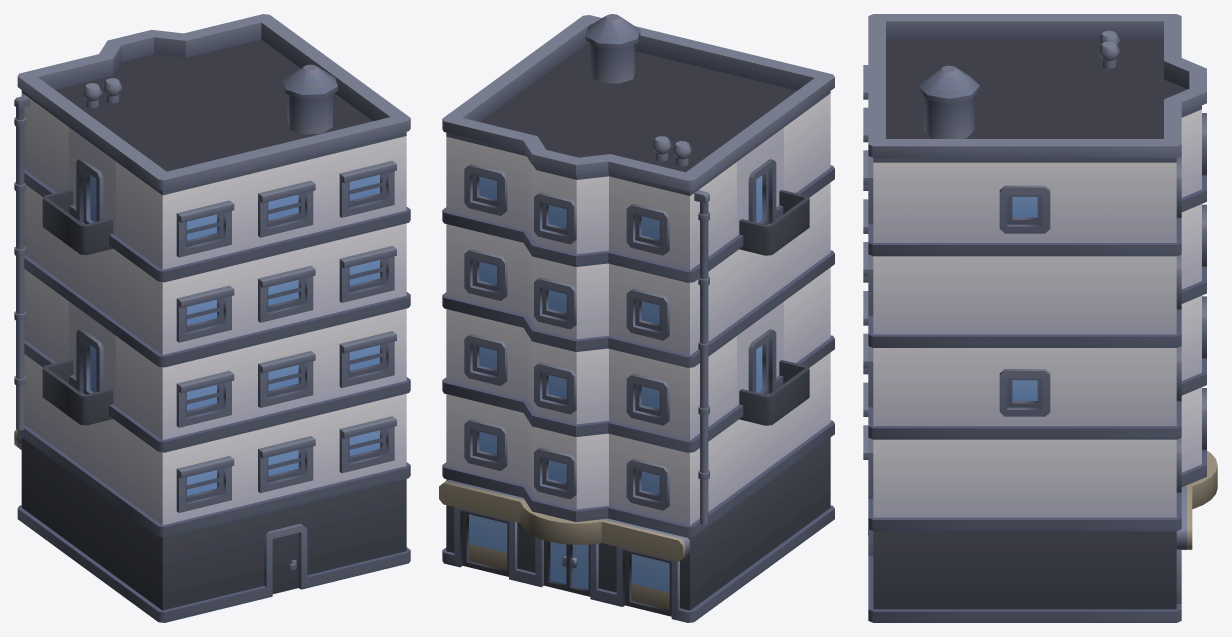
File: building-l.glb
3 renders of one model, left to right at view 1: azimuth 30°, elevation 25°; view 2: azimuth 150°, elevation 25°; view 3: azimuth 270°, elevation 25°, orthographic. The views are drawn at different scales.
Parts seen in each view (by area): view 1: building-l; view 2: building-l; view 3: building-l.
Boxes of the visible parts, x1,y1,x2,y2 form: building-l: (14, 14, 410, 622); building-l: (439, 14, 834, 622); building-l: (863, 14, 1217, 622).
Size of the model in its own units: 1.37 by 2.27 by 1.4.
1 material, 1 textured.
